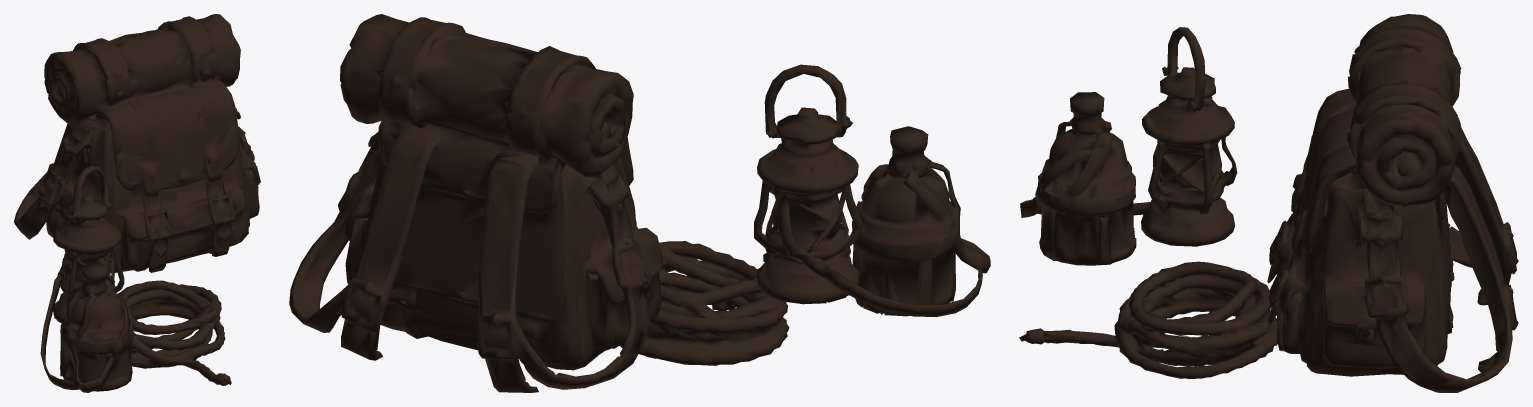
The model's file is modelo_3d_de_mochila_de_cuero_resistente.glb.
3 renders of one model, left to right at view 1: azimuth 30°, elevation 25°; view 2: azimuth 150°, elevation 25°; view 3: azimuth 270°, elevation 25°, orthographic. The views are drawn at different scales.
Visible parts, largest first — view 1: modelo_3d_de_mochila_de_cuero_resistente; view 2: modelo_3d_de_mochila_de_cuero_resistente; view 3: modelo_3d_de_mochila_de_cuero_resistente.
Part boxes in pixels (x1,y1,x2,y2): modelo_3d_de_mochila_de_cuero_resistente: [14, 14, 260, 392]; modelo_3d_de_mochila_de_cuero_resistente: [289, 14, 990, 392]; modelo_3d_de_mochila_de_cuero_resistente: [1019, 14, 1518, 392].
Size of what is drawn, in the model's own units: 0.7733 by 0.5498 by 0.7637.
Materials: 1 (1 with a texture image).
